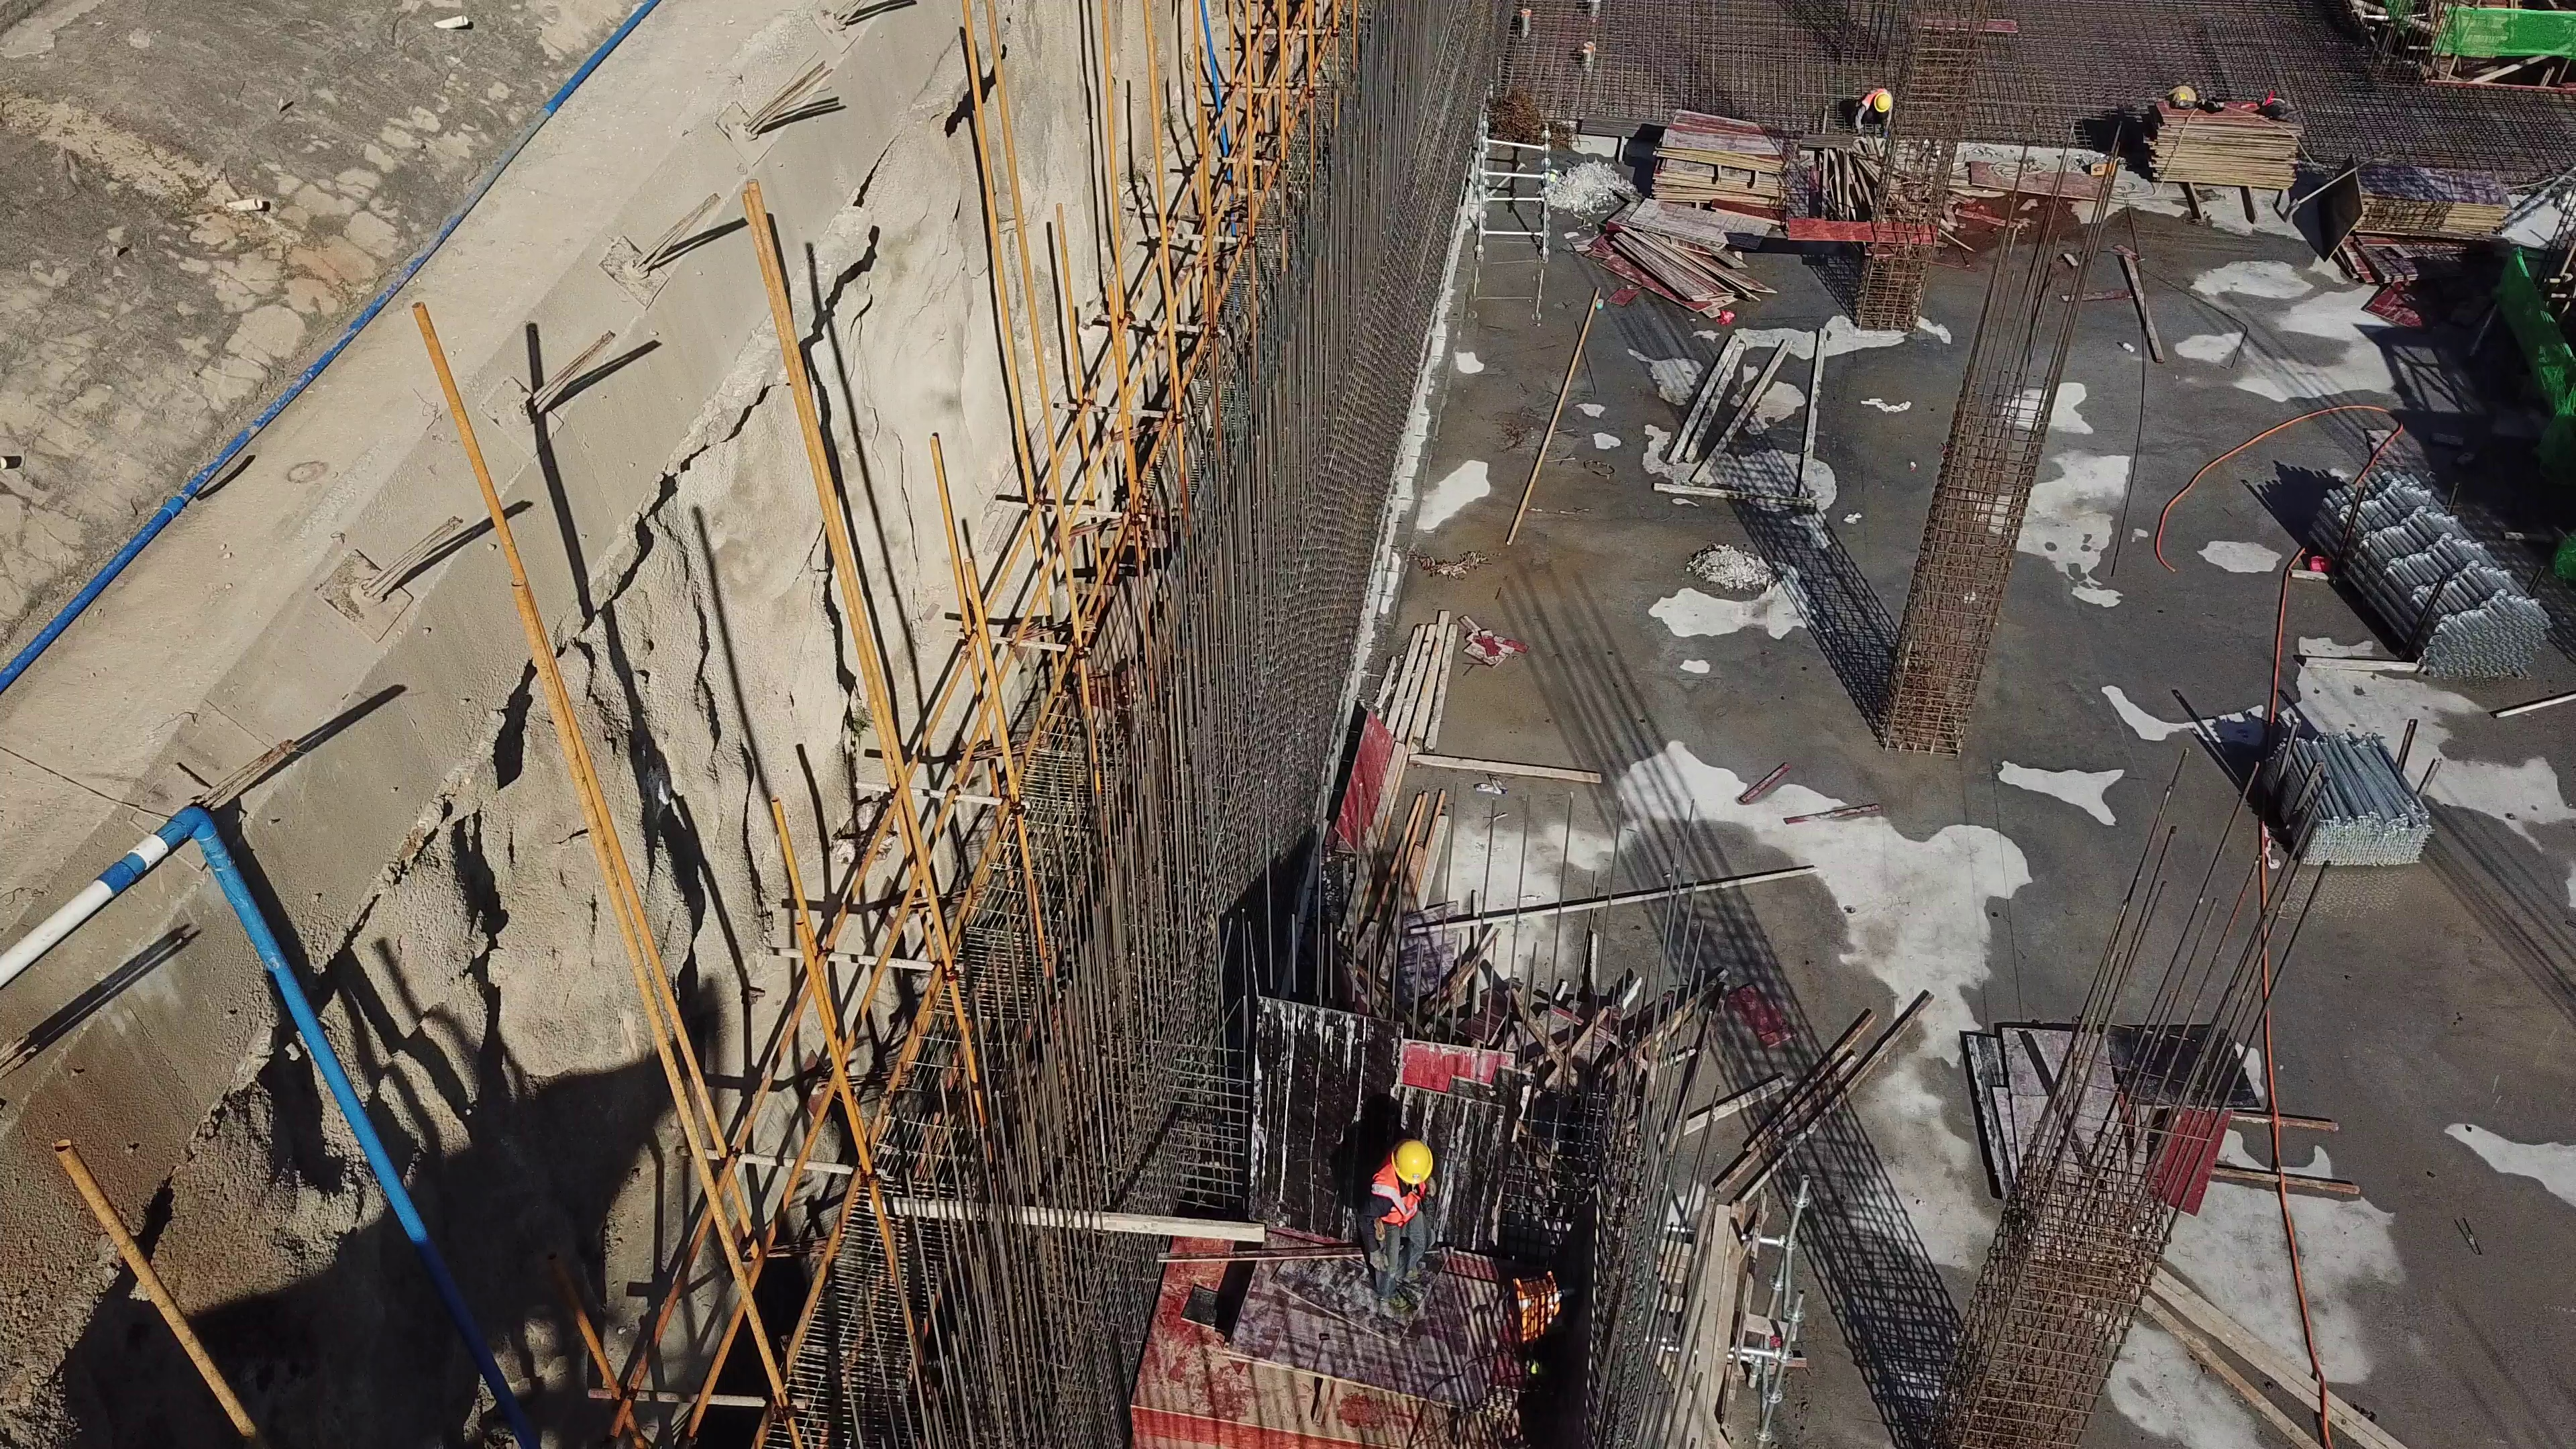board: (1607, 196, 1796, 327), (2141, 95, 2306, 200), (1652, 95, 1795, 217), (2334, 159, 2514, 250)
helmet: (1391, 1138, 1436, 1189), (1873, 94, 1890, 116)
person: (1358, 1132, 1432, 1313), (1856, 80, 1896, 133)
scaffold: (2303, 458, 2537, 697), (2253, 720, 2429, 890)
vest: (1372, 1163, 1430, 1237)
